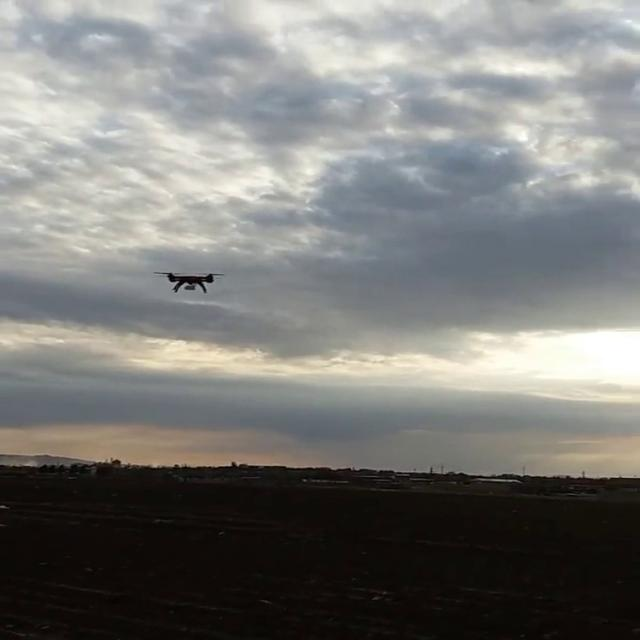drone: (150, 266, 230, 295)
